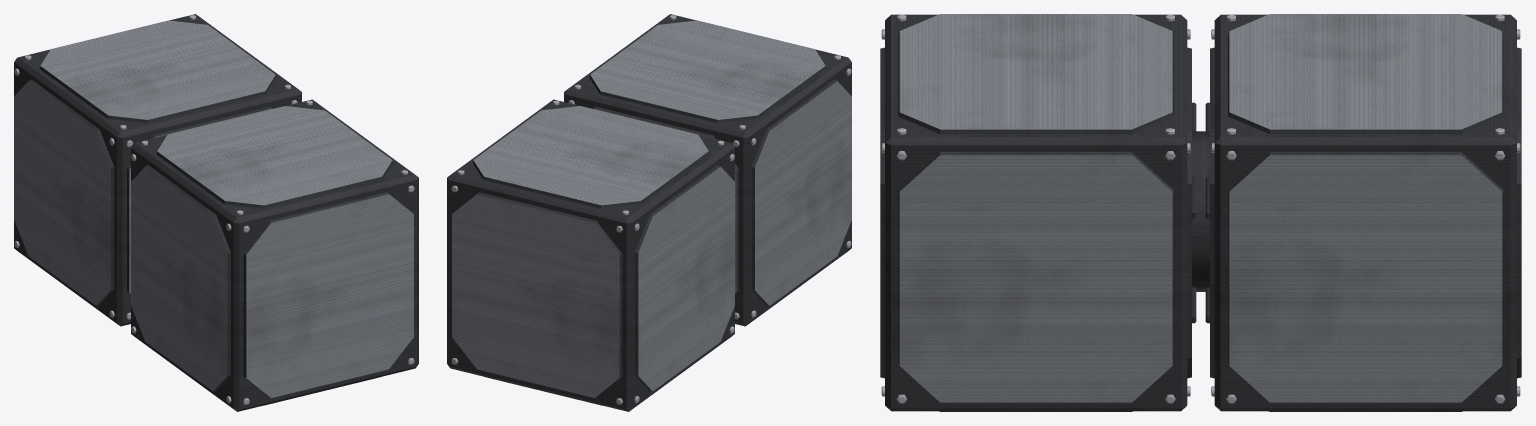
File: R4C_STRUT_SHORT.glb
3 renders of one model, left to right at view 1: azimuth 30°, elevation 25°; view 2: azimuth 150°, elevation 25°; view 3: azimuth 270°, elevation 25°, orthographic. The views are drawn at different scales.
Visible parts, largest first — view 1: R4C_STRUT_SHORT; view 2: R4C_STRUT_SHORT; view 3: R4C_STRUT_SHORT.
Boxes of the visible parts, left/top/right/bottom form: R4C_STRUT_SHORT: left=14, top=14, right=418, bottom=411; R4C_STRUT_SHORT: left=447, top=14, right=851, bottom=411; R4C_STRUT_SHORT: left=880, top=14, right=1521, bottom=411.
Size of the model in its own units: 0.52 by 0.52 by 1.07.
4 materials, 4 textured.
